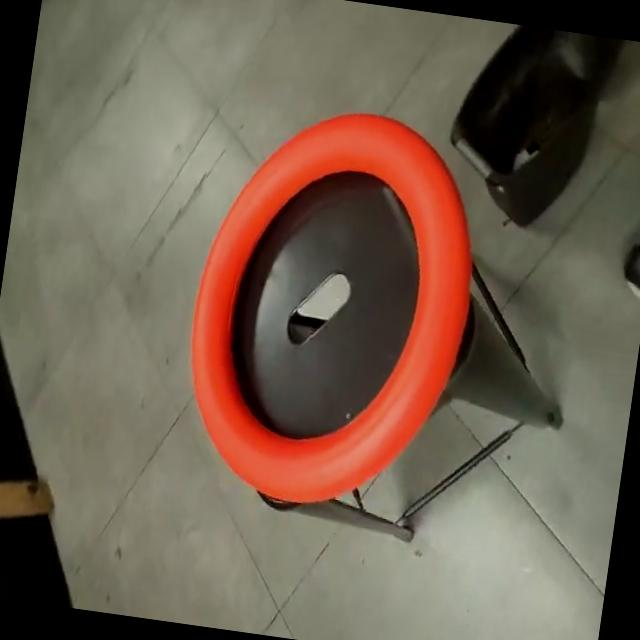note: (167, 83, 500, 531)
